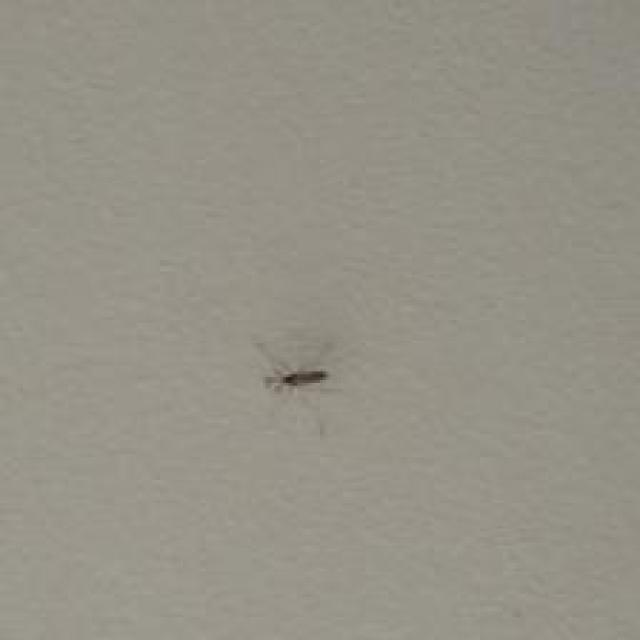Culex: (263, 367, 328, 390)
